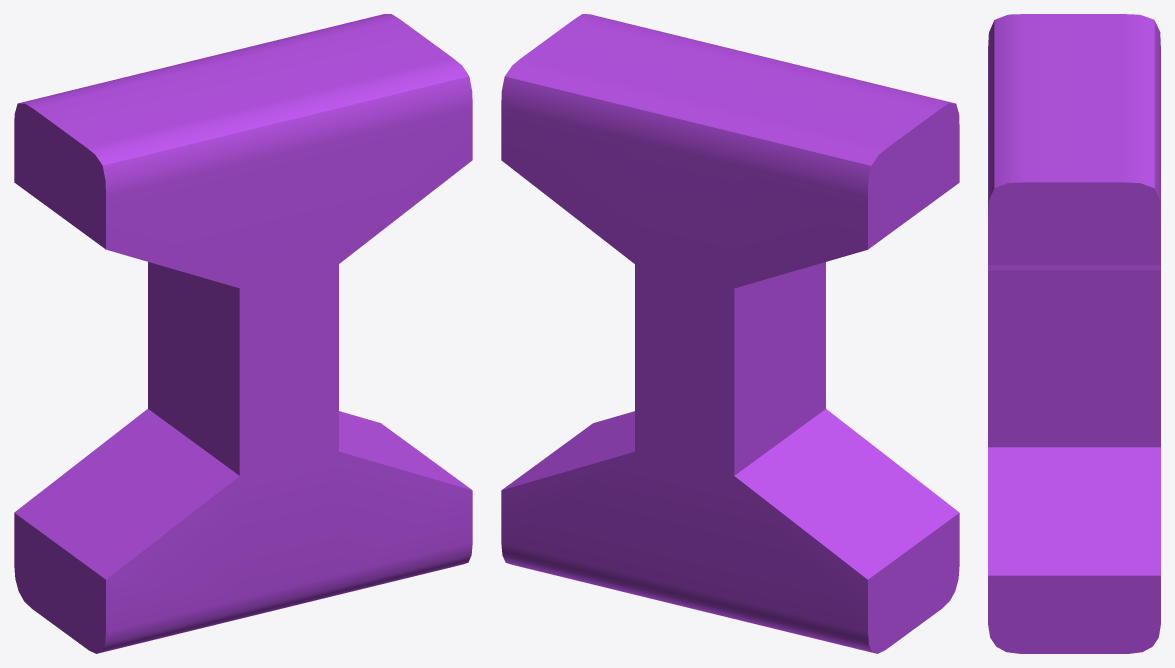
The model's file is Rallings_Connector_A.FBX.
3 renders of one model, left to right at view 1: azimuth 30°, elevation 25°; view 2: azimuth 150°, elevation 25°; view 3: azimuth 270°, elevation 25°, orthographic. The views are drawn at different scales.
Visible parts, largest first — view 1: Rallings_Connector_A; view 2: Rallings_Connector_A; view 3: Rallings_Connector_A.
Boxes of the visible parts, x1,y1,x2,y2 form: Rallings_Connector_A: [14, 14, 472, 653]; Rallings_Connector_A: [501, 14, 959, 653]; Rallings_Connector_A: [988, 14, 1160, 653].
Size of the model in its own units: 36.89 by 48.17 by 16.
